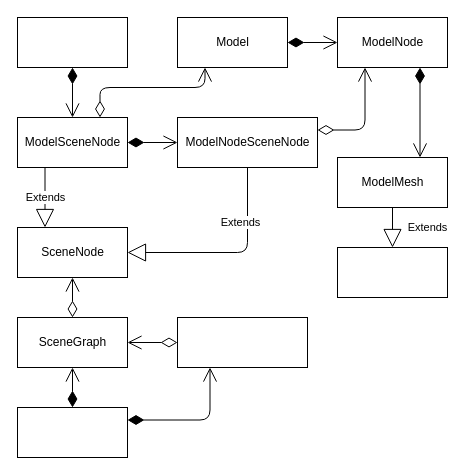
Image size: 465x475. Some labels were removed from this diagram. Here are the shapes that lost their labels. From the top down, the centre of each, then its label:
At point 72,42: "SpatialObject".
At point 392,272: "Mesh".
At point 242,342: "WorldRenderPipeline".
At point 72,432: "Game".
